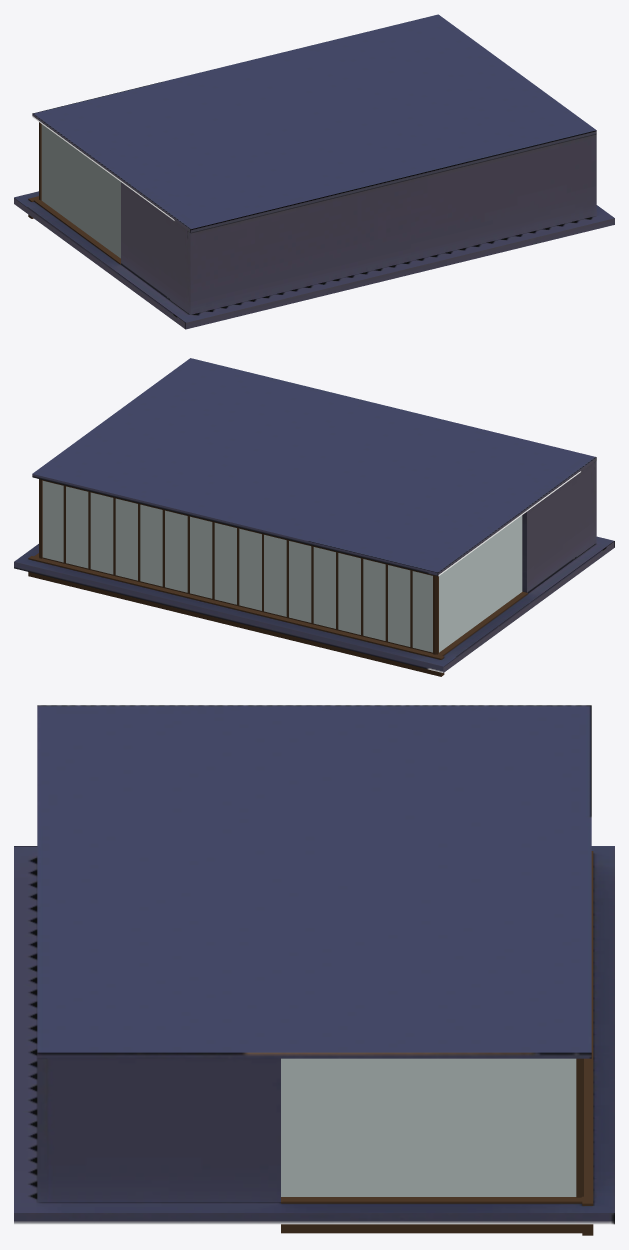
File: int_shell.glb
The picture shows the model from 3 angles, top to bottom: view 1: azimuth 30°, elevation 25°; view 2: azimuth 150°, elevation 25°; view 3: azimuth 270°, elevation 25°; orthographic projection. The views are drawn at different scales.
Parts seen in each view (by area): view 1: int_shell; view 2: int_shell; view 3: int_shell.
Boxes of the visible parts, x1=… form: int_shell: x1=14, y1=14, x2=614, y2=329; int_shell: x1=14, y1=358, x2=614, y2=676; int_shell: x1=14, y1=705, x2=614, y2=1235.
Size of the model in its own units: 26 by 5.95 by 18.
8 materials, 4 textured.
